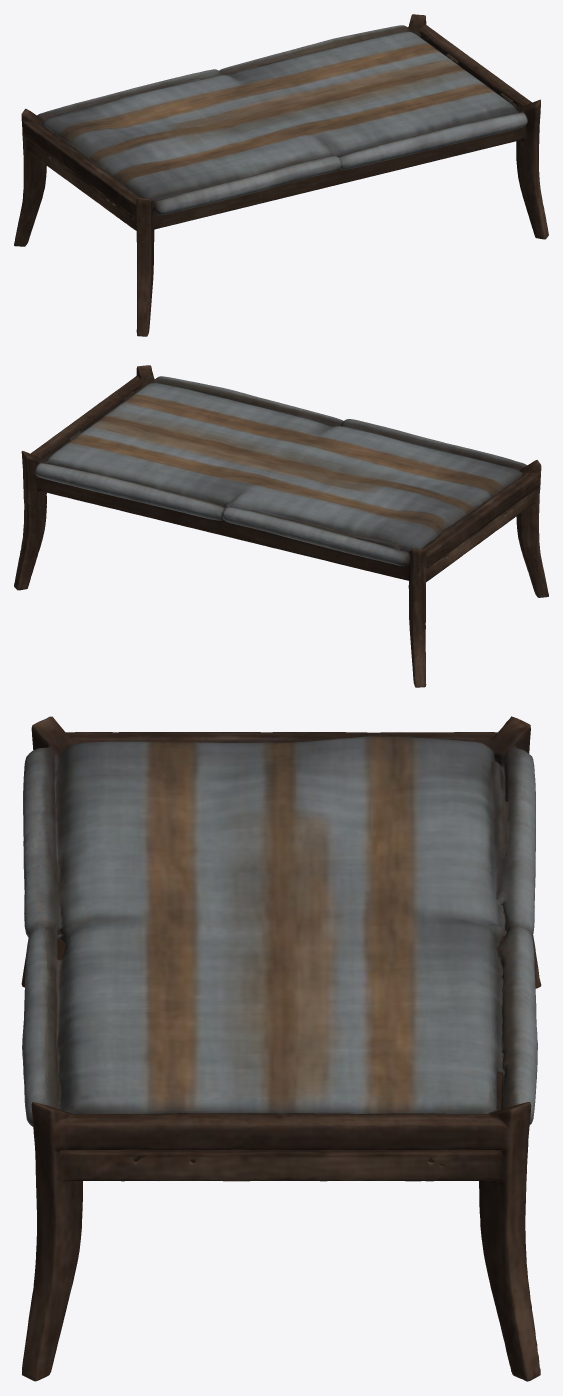
The model's file is grey_4.glb.
3 renders of one model, top to bottom at view 1: azimuth 30°, elevation 25°; view 2: azimuth 150°, elevation 25°; view 3: azimuth 270°, elevation 25°, orthographic. The views are drawn at different scales.
Parts seen in each view (by area): view 1: geometry_0; view 2: geometry_0; view 3: geometry_0.
Boxes of the visible parts, bbox=[...] form: geometry_0: bbox=[14, 14, 548, 336]; geometry_0: bbox=[14, 365, 548, 687]; geometry_0: bbox=[21, 716, 541, 1381].
Bounding box in the file's own units: 0.9829 × 0.3095 × 0.5373.
1 material, 1 textured.
